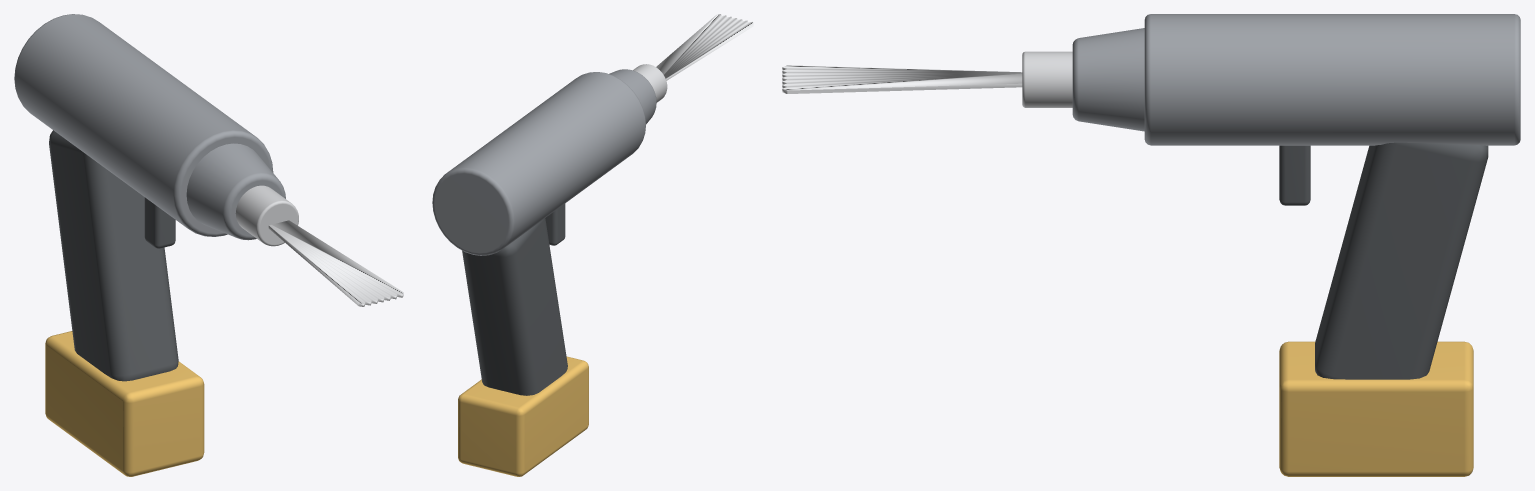
The model's file is inst.oscillating_saw.fbx.
3 renders of one model, left to right at view 1: azimuth 30°, elevation 25°; view 2: azimuth 150°, elevation 25°; view 3: azimuth 270°, elevation 25°, orthographic. The views are drawn at different scales.
Parts seen in each view (by area): view 1: Housing, Grip, Battery, Blade, Head, Trigger; view 2: Housing, Grip, Battery, Blade, Trigger, Head; view 3: Housing, Grip, Battery, Blade, Head, Trigger.
Boxes of the visible parts, bbox=[...] form: Housing: bbox=[14, 14, 285, 240]; Grip: bbox=[49, 130, 178, 381]; Battery: bbox=[45, 331, 204, 476]; Blade: bbox=[268, 220, 403, 306]; Head: bbox=[235, 185, 298, 246]; Trigger: bbox=[144, 197, 175, 248]; Housing: bbox=[432, 69, 656, 255]; Grip: bbox=[462, 218, 567, 395]; Battery: bbox=[458, 356, 588, 476]; Blade: bbox=[656, 14, 753, 80]; Trigger: bbox=[545, 203, 565, 245]; Head: bbox=[633, 64, 667, 102]; Housing: bbox=[1072, 14, 1520, 145]; Grip: bbox=[1315, 142, 1488, 379]; Battery: bbox=[1279, 341, 1473, 476]; Blade: bbox=[782, 65, 1022, 93]; Head: bbox=[1022, 51, 1072, 107]; Trigger: bbox=[1279, 145, 1310, 205].
Bounding box in the file's own units: 0.042 × 0.154 × 0.2356.
